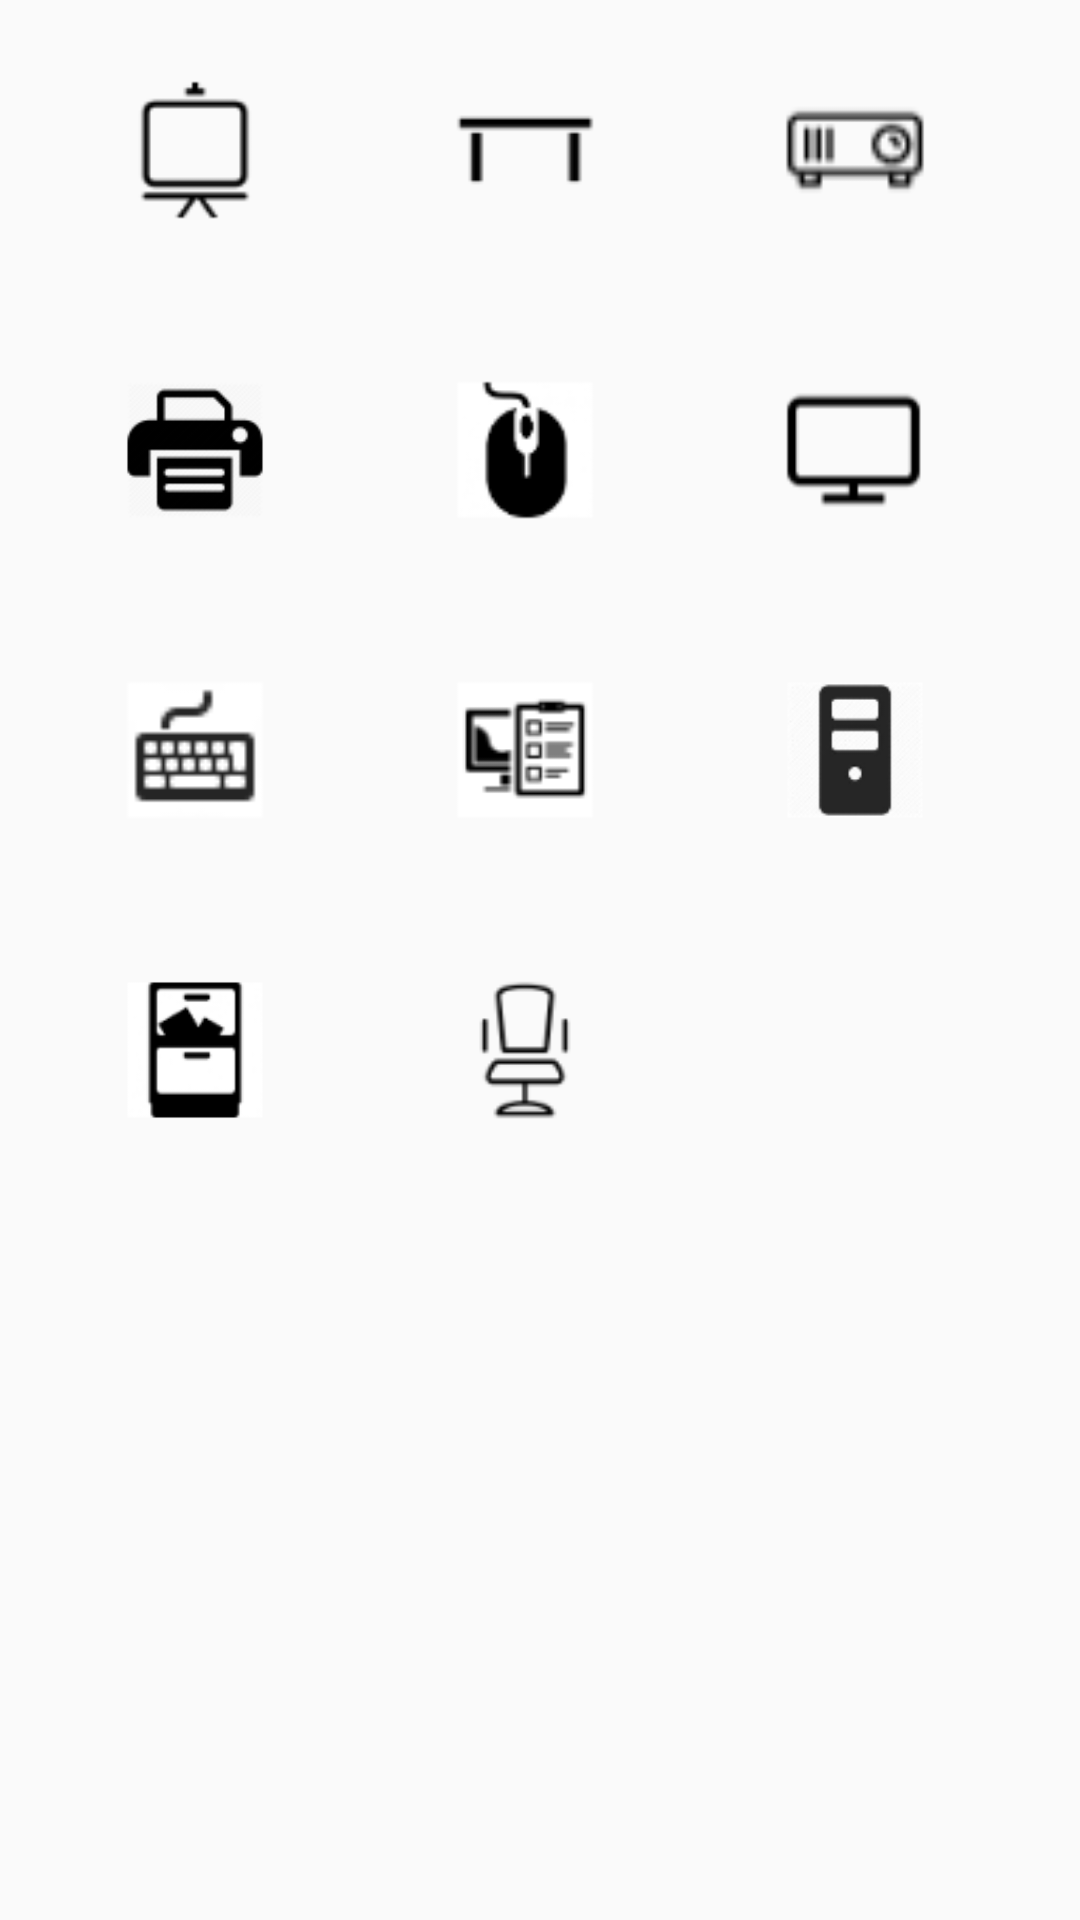

Named icons in this screenshot (1080 × 1920) and their bounding boxes, (x1, y1, x2, y2):
chair: (481, 982, 569, 1118)
closet: (148, 982, 242, 1118)
cpu: (818, 684, 892, 816)
inventory: (465, 699, 586, 798)
keyboard: (134, 690, 256, 802)
monitor: (786, 394, 921, 506)
mouse: (482, 381, 568, 519)
printer: (127, 388, 263, 512)
proyector: (786, 110, 924, 190)
table: (457, 116, 593, 183)
whiteboard: (141, 81, 249, 219)
